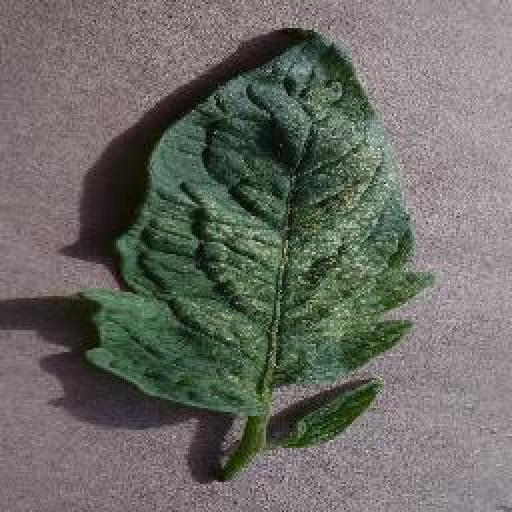Spider Mites: (81, 36, 439, 411)
